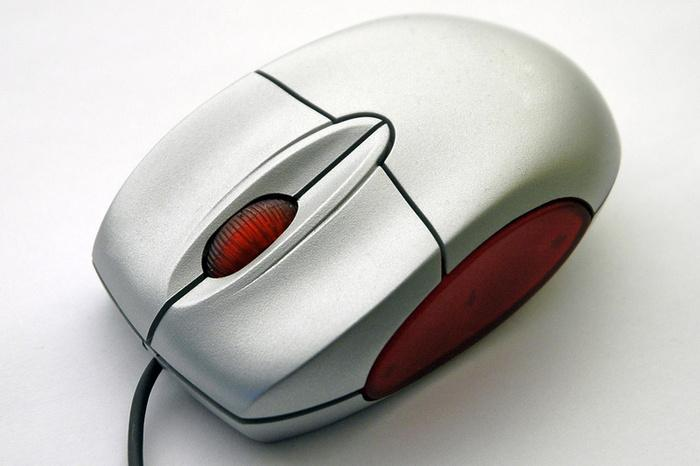computer mouse: (92, 13, 622, 445)
